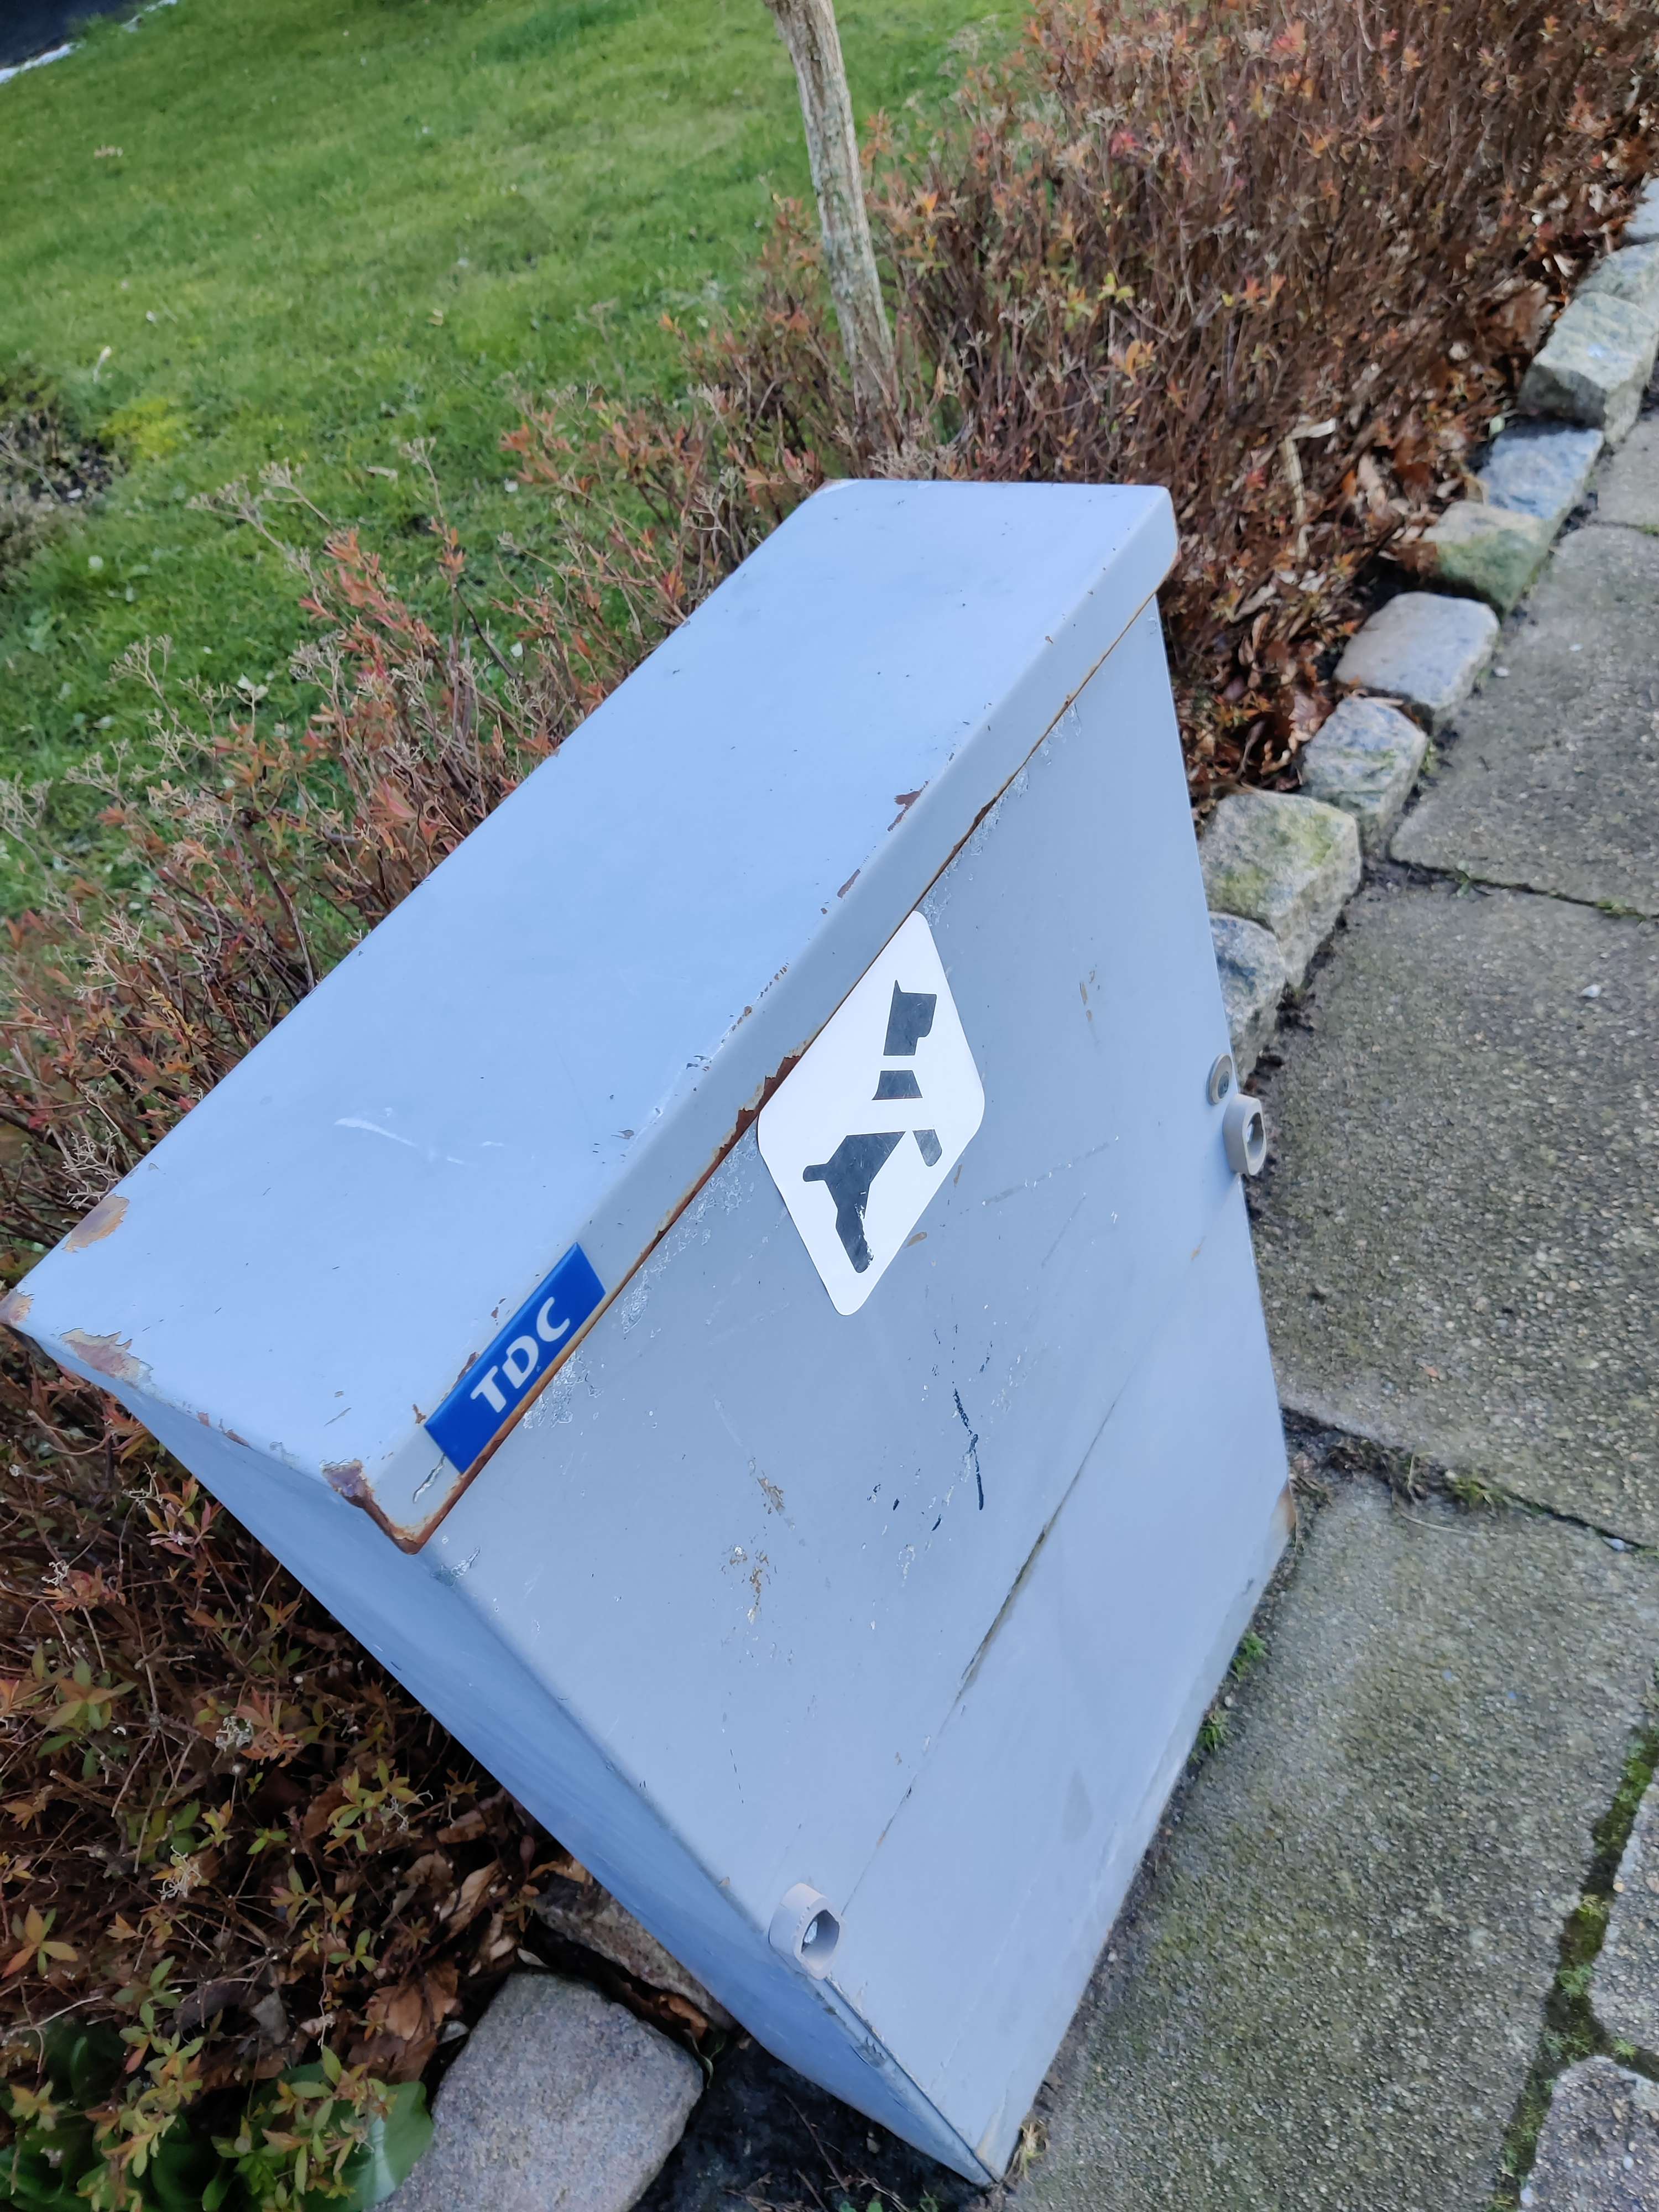Dog: (798, 977, 943, 1275)
